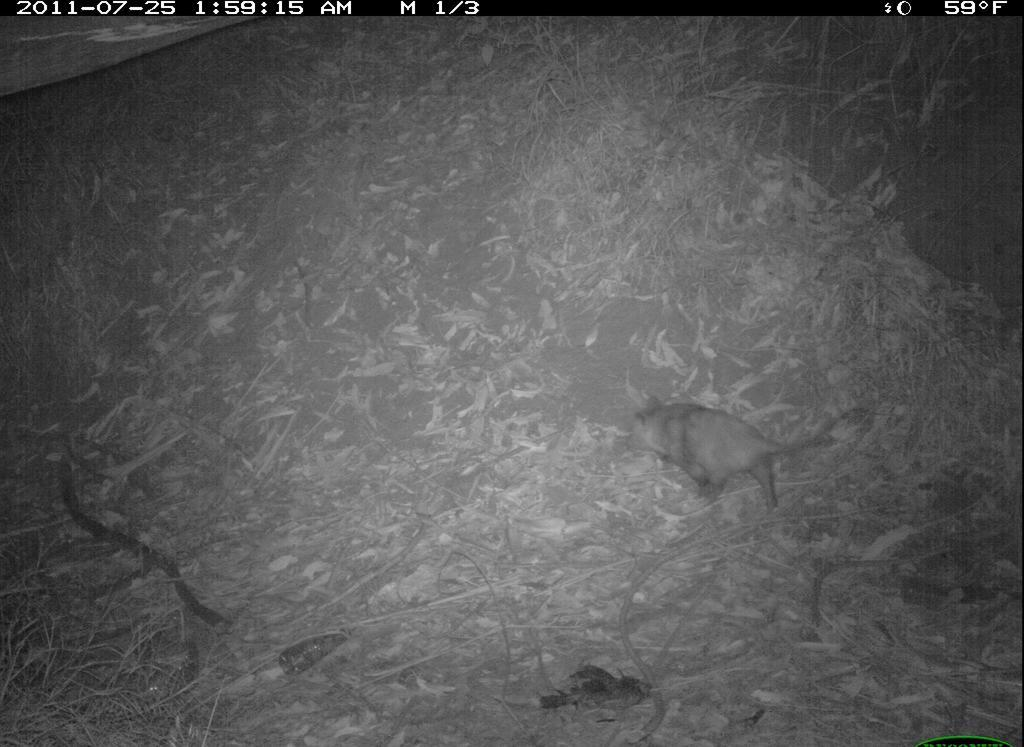opossum: (626, 392, 844, 515)
